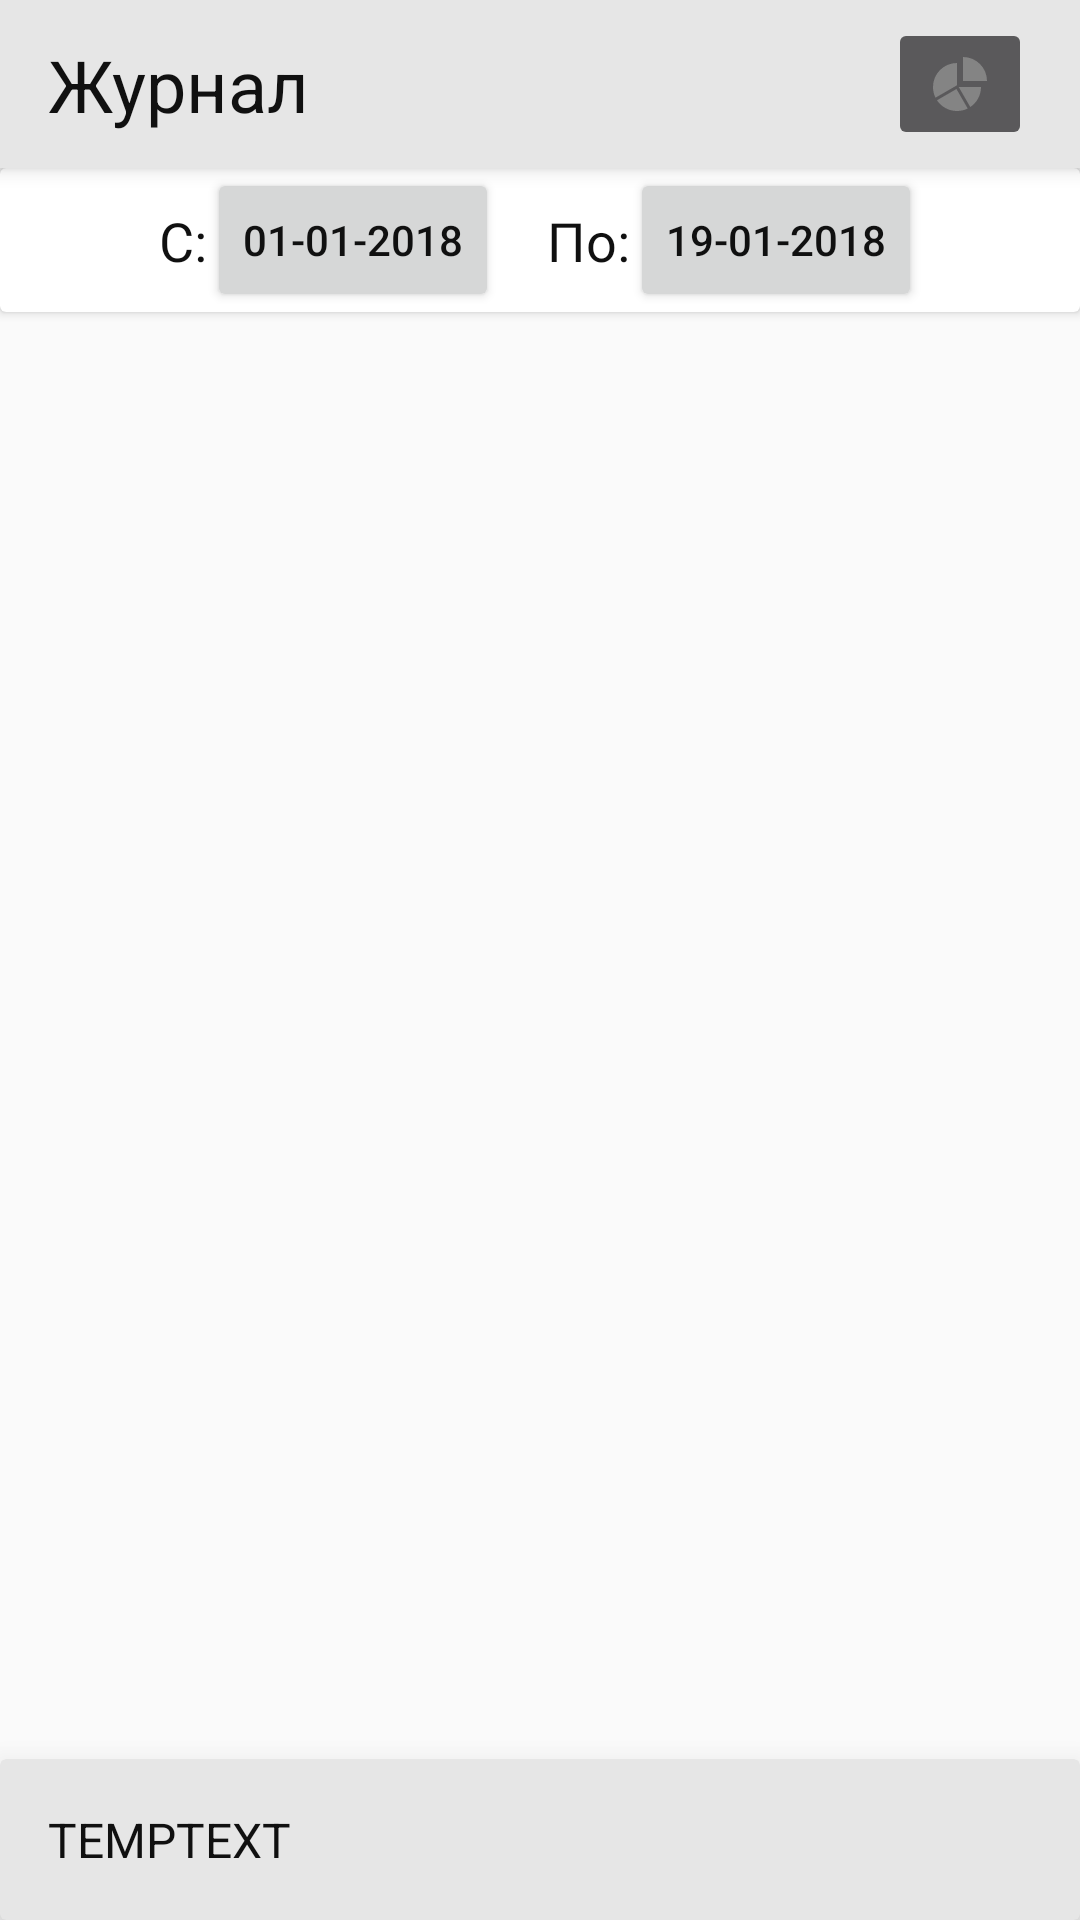

Named icons in this screenshot (1080*1920) and their centers, point (x, y):
pie chart: point (960, 84)
